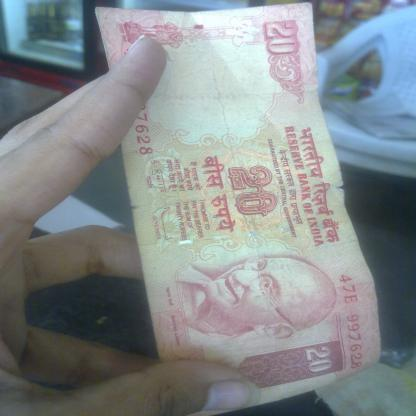Old20Front: (95, 2, 382, 407)
